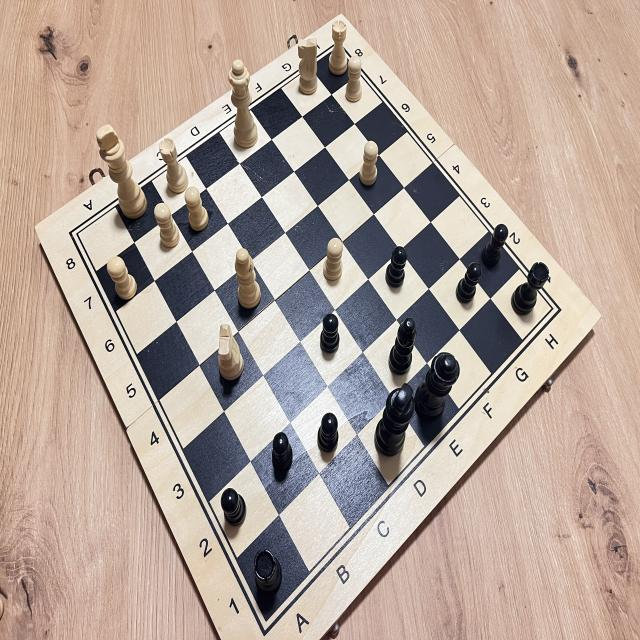black-bishop: (385, 313, 419, 379)
black-king: (371, 375, 417, 467)
black-pawn: (267, 424, 301, 481), (314, 406, 345, 467), (480, 222, 512, 276), (218, 482, 252, 530), (314, 309, 345, 360), (383, 240, 412, 293), (454, 256, 482, 310)
black-queen: (409, 338, 464, 442)
black-rook: (508, 254, 552, 322), (246, 542, 291, 602)
white-bishop: (226, 238, 266, 318)
white-king: (89, 110, 150, 229)
white-knight: (212, 318, 247, 386), (291, 29, 322, 103)
white-pawn: (103, 250, 142, 306), (178, 178, 214, 238), (150, 199, 186, 252), (318, 230, 348, 289), (354, 139, 384, 194), (342, 48, 368, 109)
white-queen: (222, 53, 263, 153)
white-rook: (319, 12, 355, 86), (157, 134, 196, 202)
